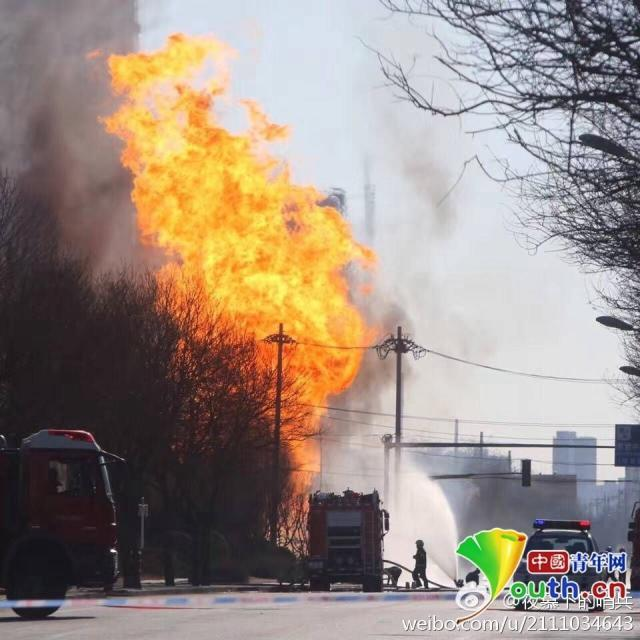Fire: (95, 29, 386, 542)
Smoke: (0, 0, 164, 288), (316, 303, 420, 447)
